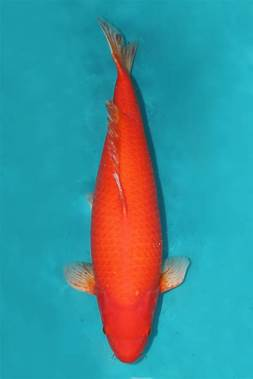red: (62, 19, 189, 364)
